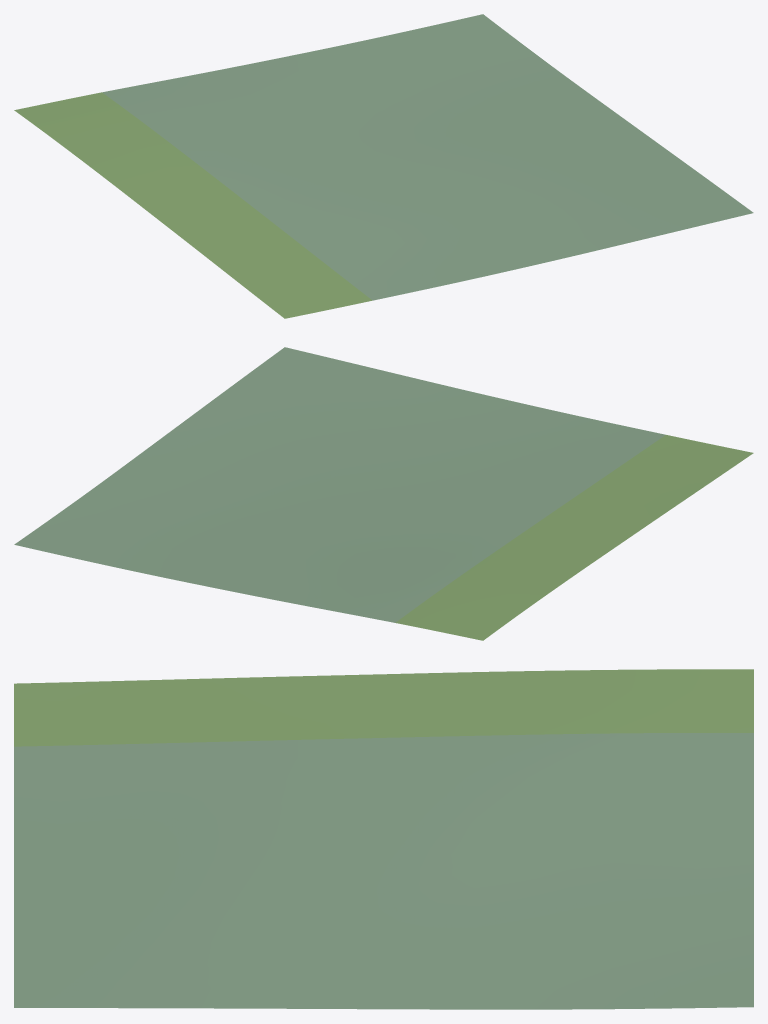
File: floor_001_chunk_x+02_z+12_collision.glb
The picture shows the model from 3 angles, top to bottom: view 1: azimuth 30°, elevation 25°; view 2: azimuth 150°, elevation 25°; view 3: azimuth 270°, elevation 25°; orthographic projection. The views are drawn at different scales.
Parts seen in each view (by area): view 1: floor_001_chunk_x+02_z+12_collision; view 2: floor_001_chunk_x+02_z+12_collision; view 3: floor_001_chunk_x+02_z+12_collision.
Part boxes in pixels (<box>): floor_001_chunk_x+02_z+12_collision: <box>14,14,753,318</box>; floor_001_chunk_x+02_z+12_collision: <box>14,347,753,640</box>; floor_001_chunk_x+02_z+12_collision: <box>14,669,753,1009</box>.
Bounding box in the file's own units: 256 × 10.54 × 256.
